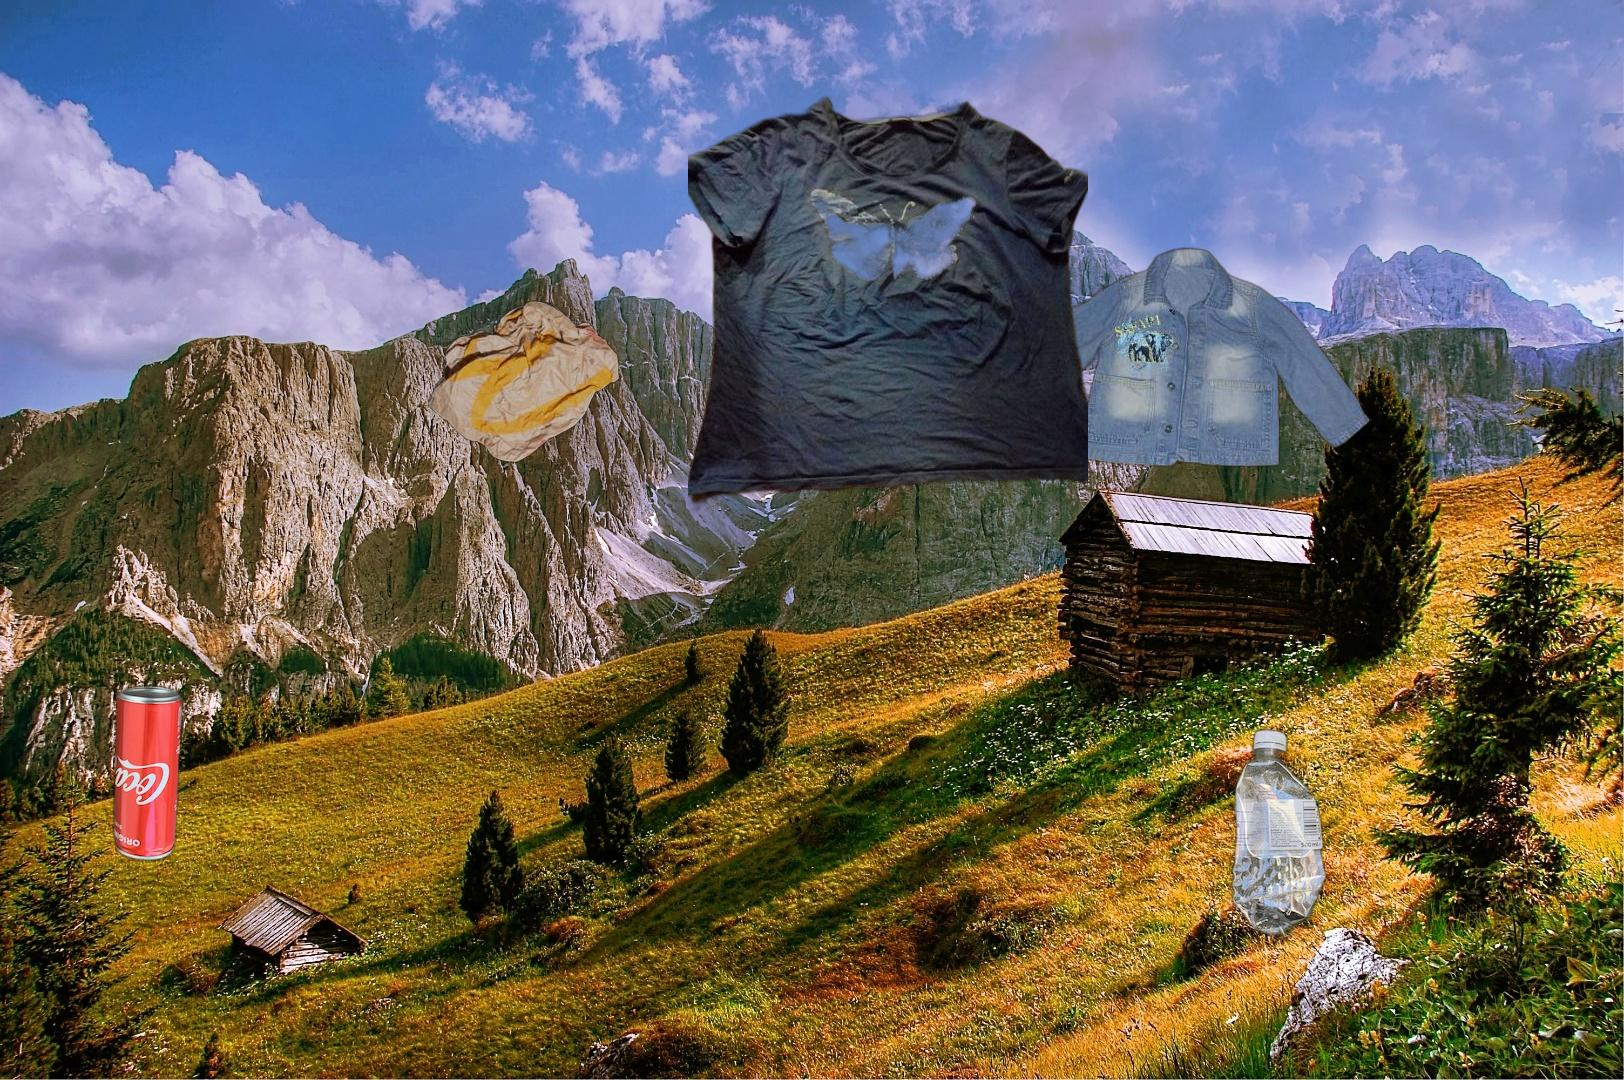clothes: (688, 93, 1088, 516), (983, 243, 1373, 471)
metal-cans: (108, 679, 187, 865)
paper-bag: (425, 299, 623, 464)
plastic-bottles: (1223, 722, 1331, 944)
